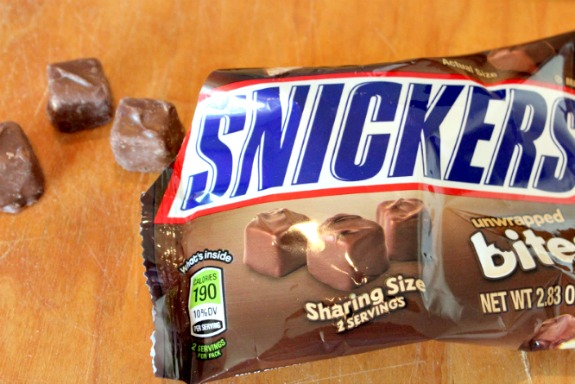snickers: (181, 81, 574, 217), (181, 81, 572, 217), (181, 81, 571, 217)
